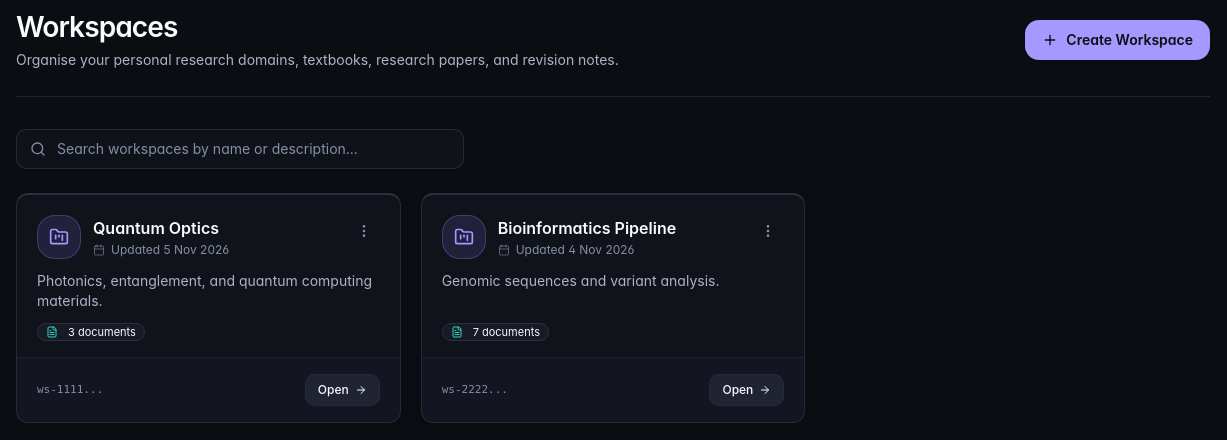
it: WorkspacesPage Component › filters workspaces when searching
Expected: the link "Quantum Optics" is shown, 93,216 -> 219,240
Type "Bioinformatics" into the field with placeholder "Search workspaces by name or description...".
click(240, 149); type("Bioinformatics")  # box 16,129 -> 464,169
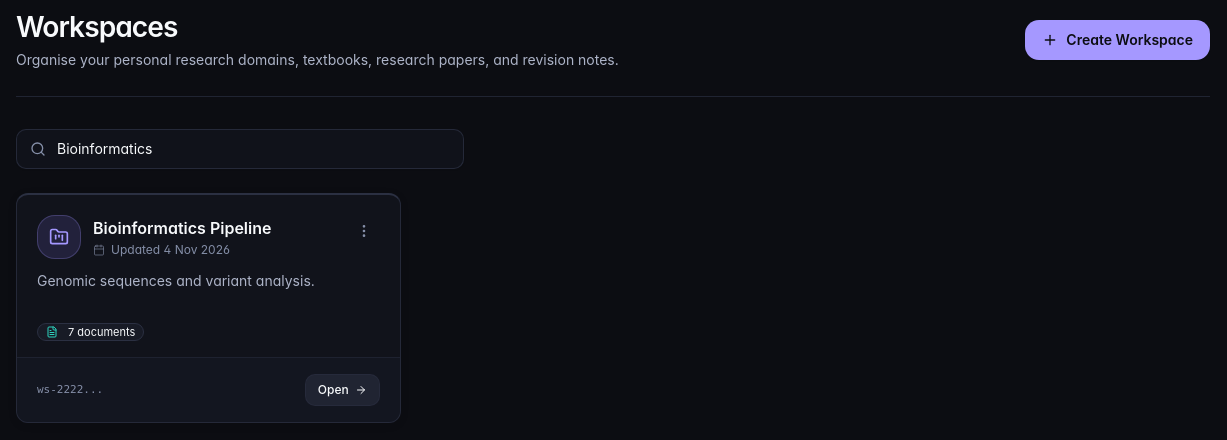
Expected: the link "Bioinformatics Pipeline" is shown, 93,216 -> 272,240
Expected: the link "Quantum Optics" is gone
